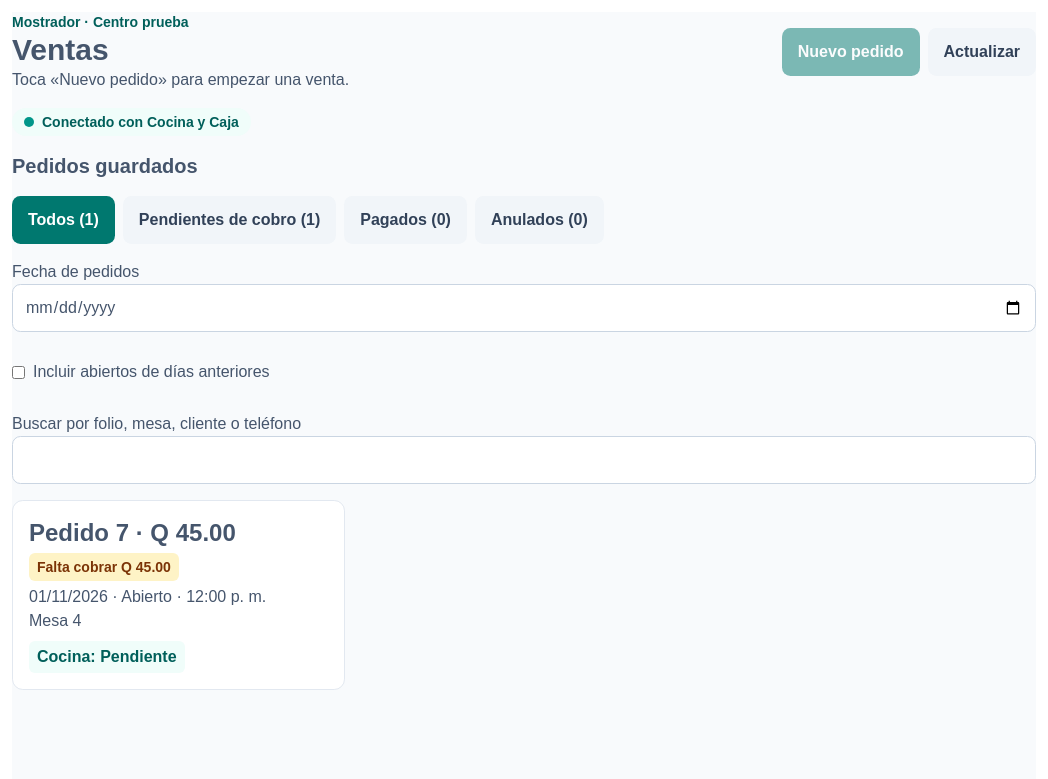
Test: Preparación visible en Pedidos y Caja › el mesero recibe el estado de cocina en la lista y el pedido seleccionado
Click the button with aria-label "Ver pedido 7". click: (179, 595)
box: x1=12 y1=500 x2=345 y2=690
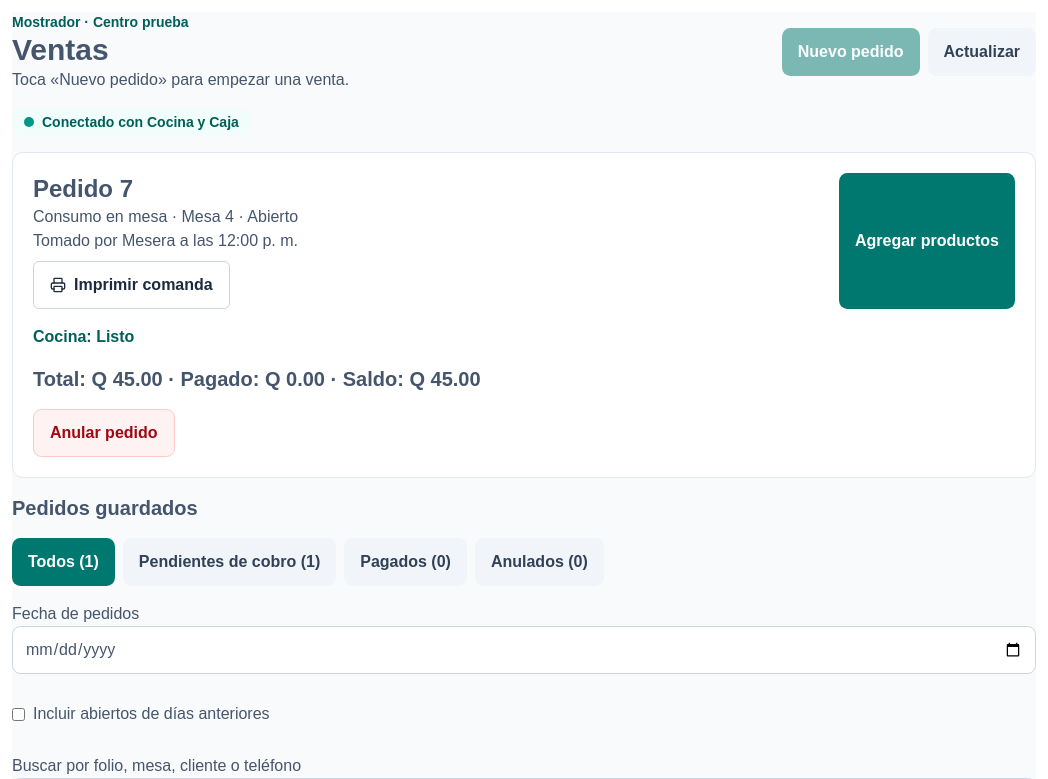
Expected: the text "Cocina: Listo" is shown 2 times
